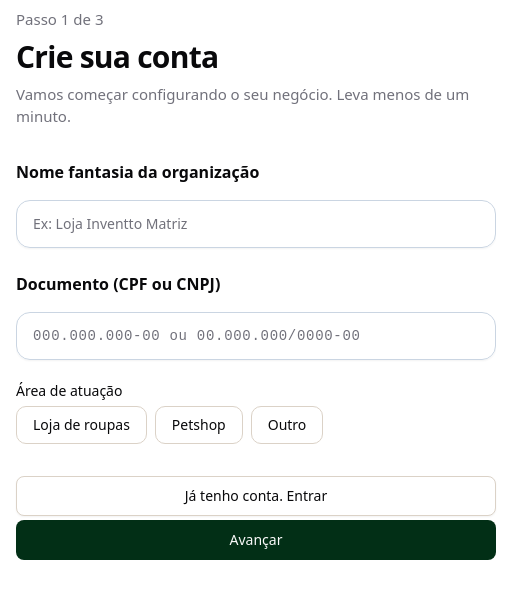
Test: SignUpForm Feature › Integration Tests (UI Flow) › should block Step 1 if no business area is selected
Type "Inventto Tech" into the field labelled "Nome fantasia da organização" at (256, 224), box [16,200,496,248]
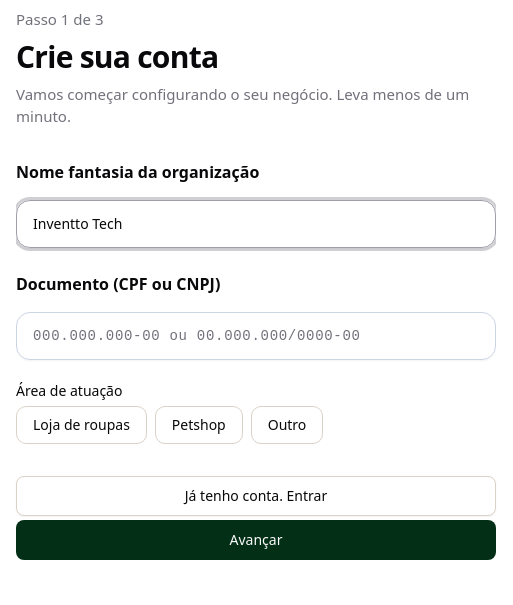
Type "123.456.789-09" into the field labelled "Documento (CPF ou CNPJ)" at (256, 336), box [16,312,496,360]
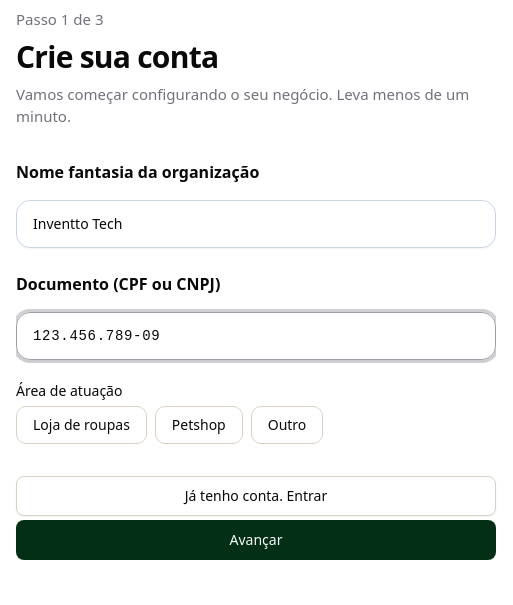
// Não seleciona área de atuação
Click the button "Avançar" at (256, 540), box [16,520,496,560]
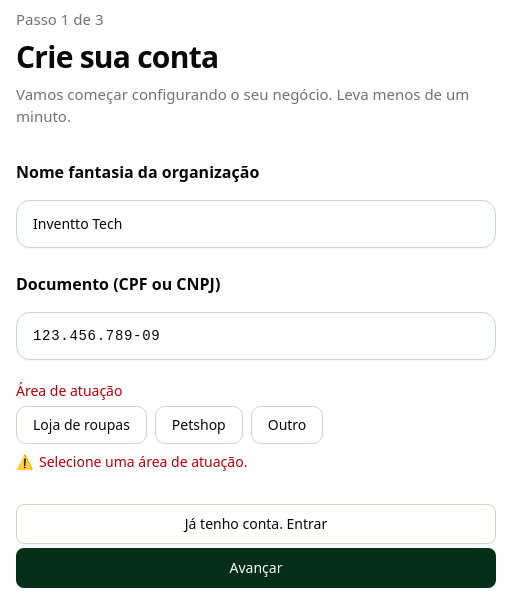
Now the text "⚠ Selecione uma área de atuação." is shown, box [16,452,247,470]
